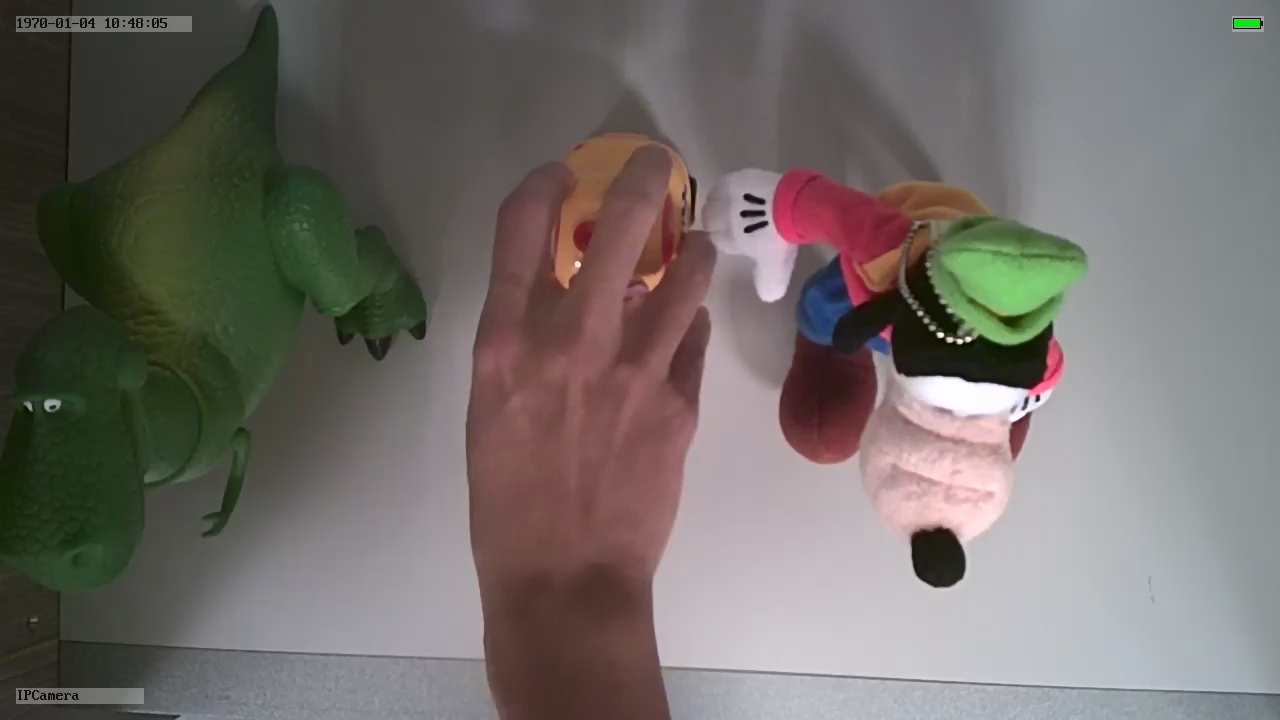goofy: (701, 165, 1090, 597)
